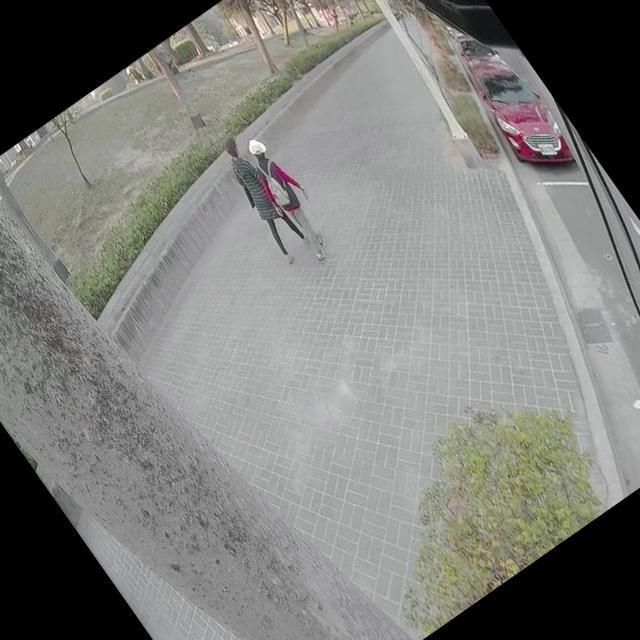person: (233, 129, 340, 262), (207, 132, 307, 260)
